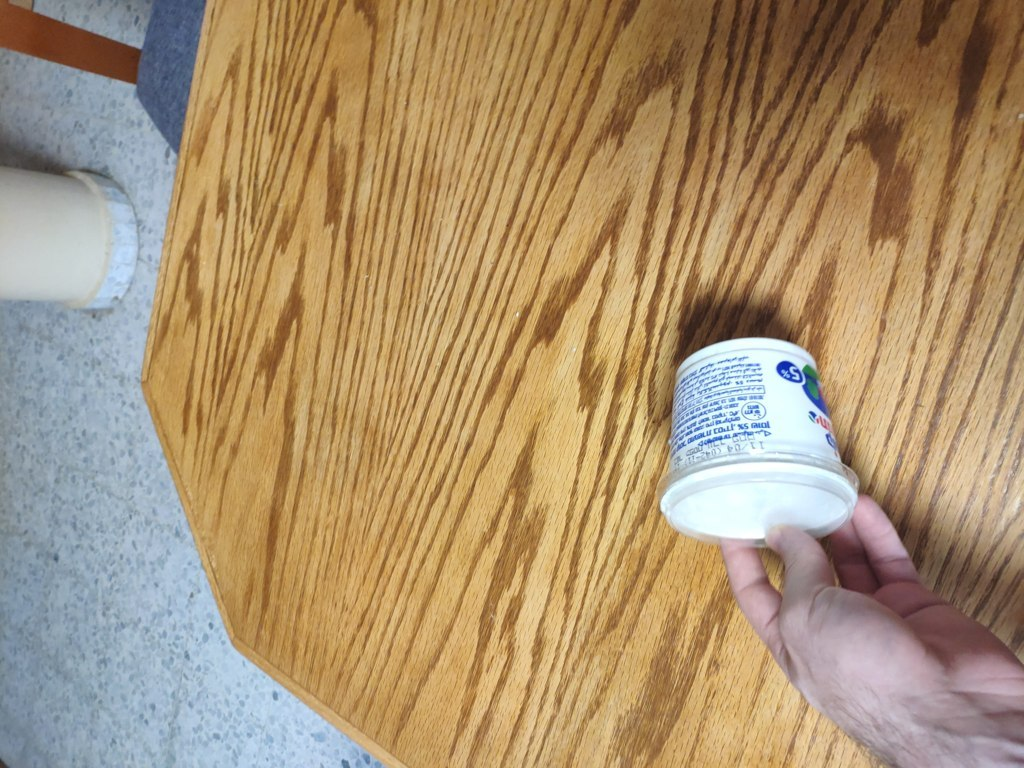Cotage: (696, 353, 849, 559)
